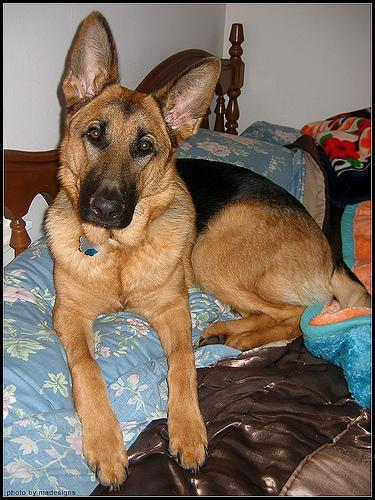German_shepherd: (43, 10, 373, 490)
